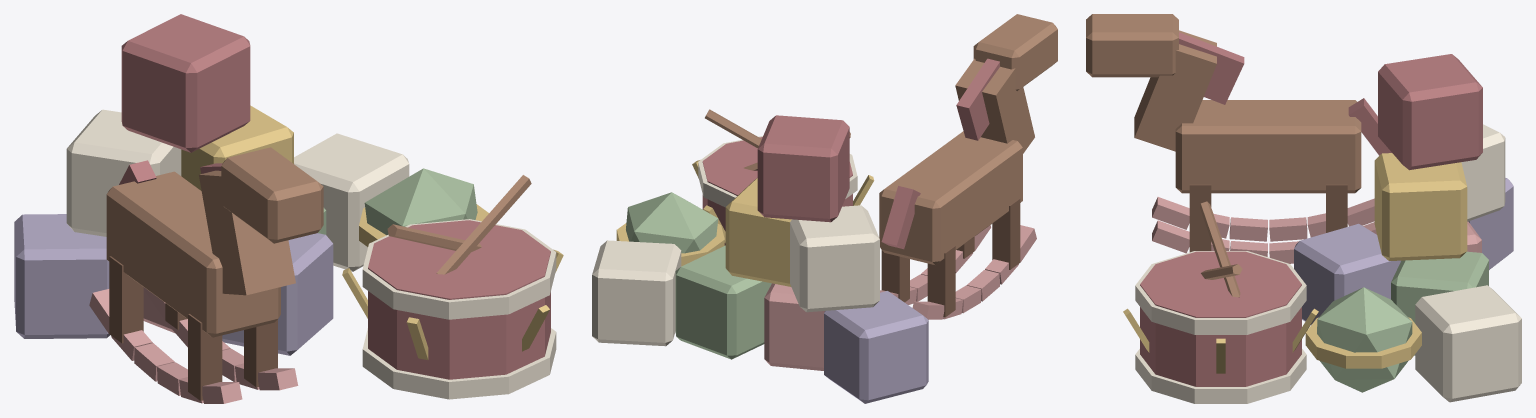
The model's file is sb_toy_pile.glb.
The picture shows the model from 3 angles, left to right: view 1: azimuth 30°, elevation 25°; view 2: azimuth 150°, elevation 25°; view 3: azimuth 270°, elevation 25°; orthographic projection. The views are drawn at different scales.
Visible parts, largest first — view 1: toy_pile; view 2: toy_pile; view 3: toy_pile.
Boxes of the visible parts, left/top/right/bottom form: toy_pile: left=14, top=14, right=563, bottom=403; toy_pile: left=592, top=14, right=1057, bottom=403; toy_pile: left=1086, top=14, right=1521, bottom=403.
Size of the model in its own units: 0.871 by 0.5747 by 0.9156.
